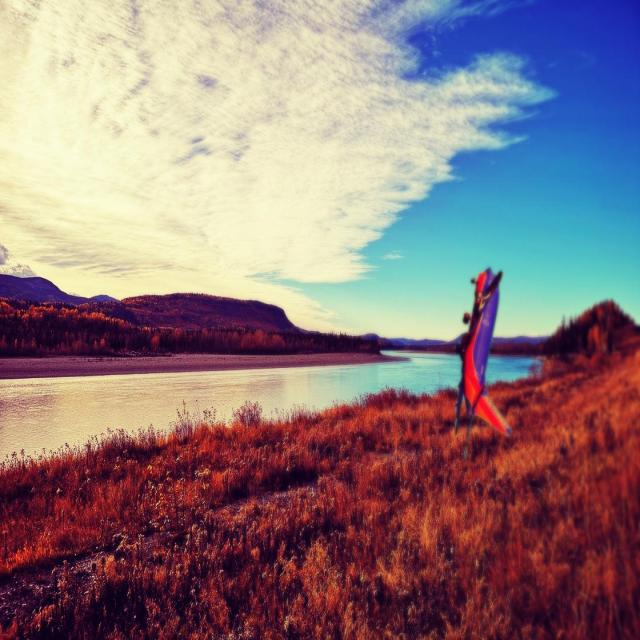airplane: (453, 267, 511, 454)
